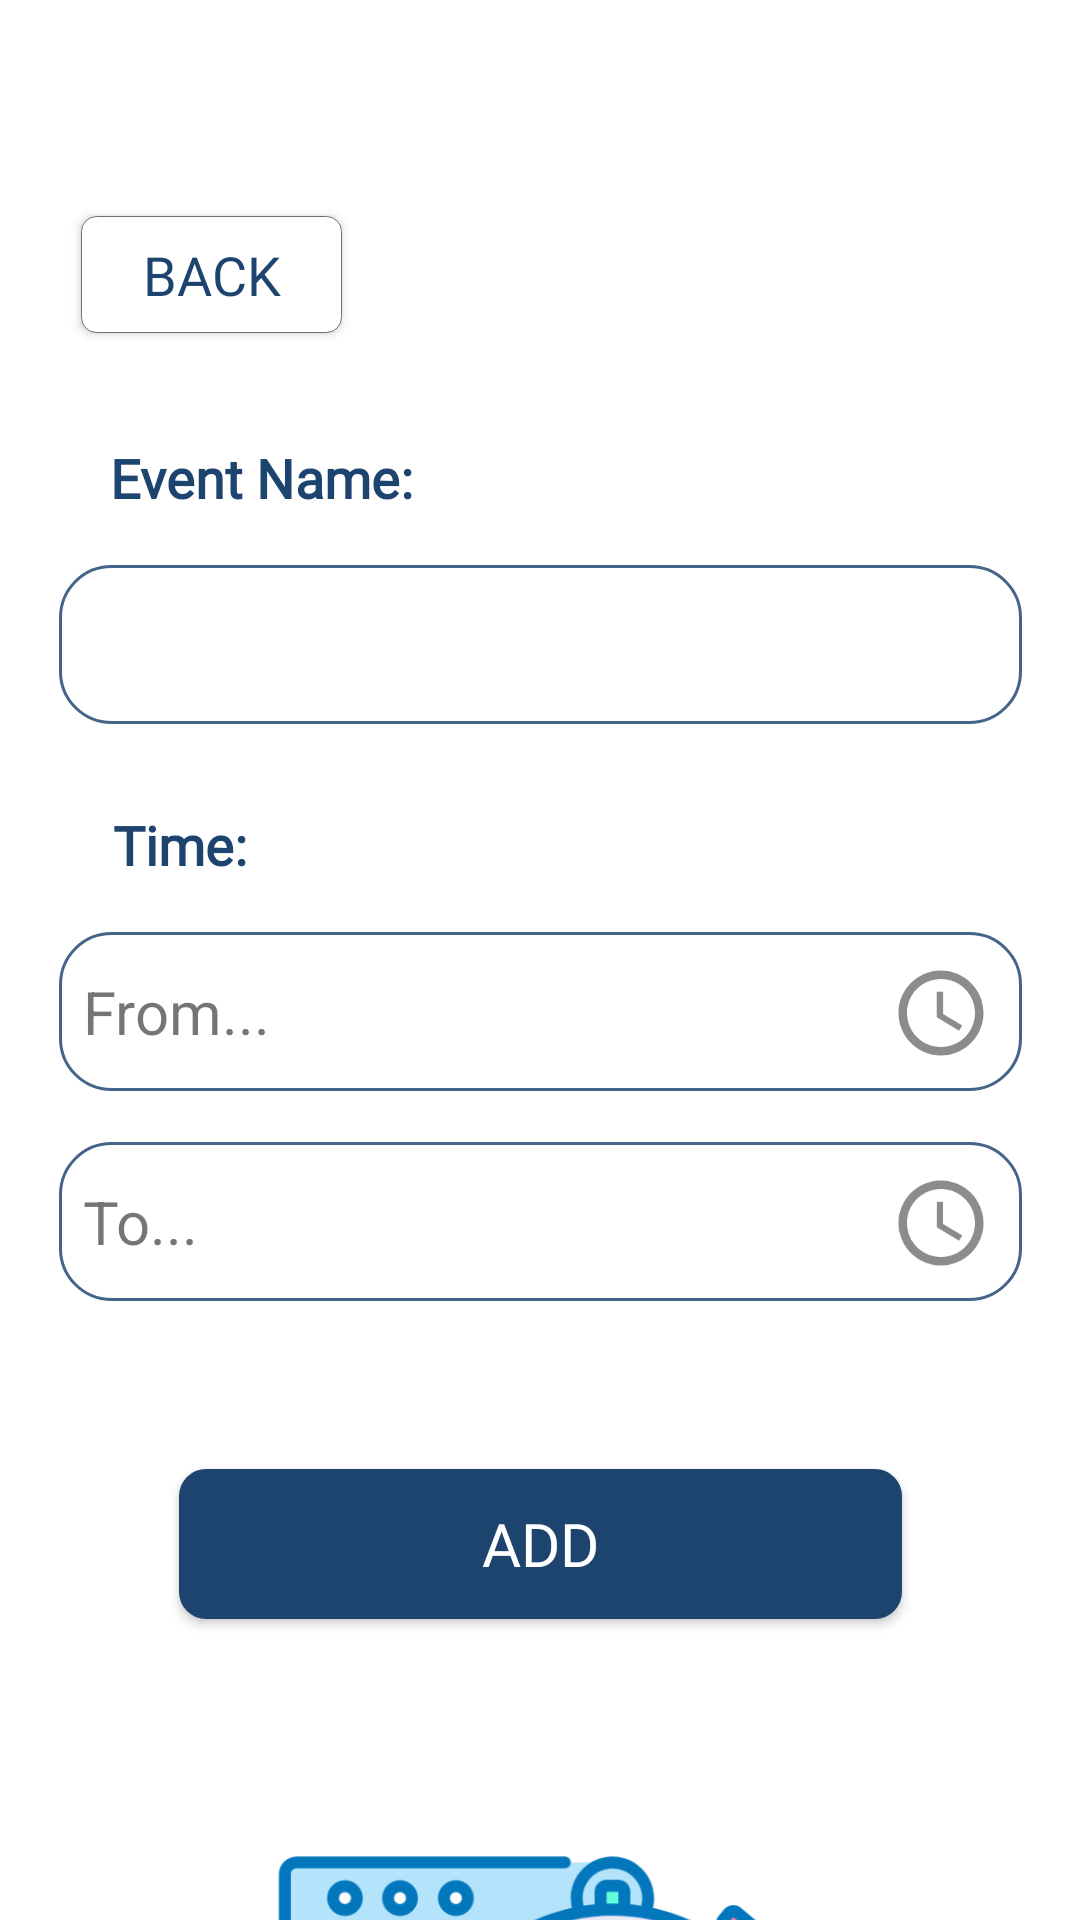

Where to tap for icons on this 1080px x 1920px app screen, as point (x, y):
clock: point (941, 1013), point (941, 1223)
